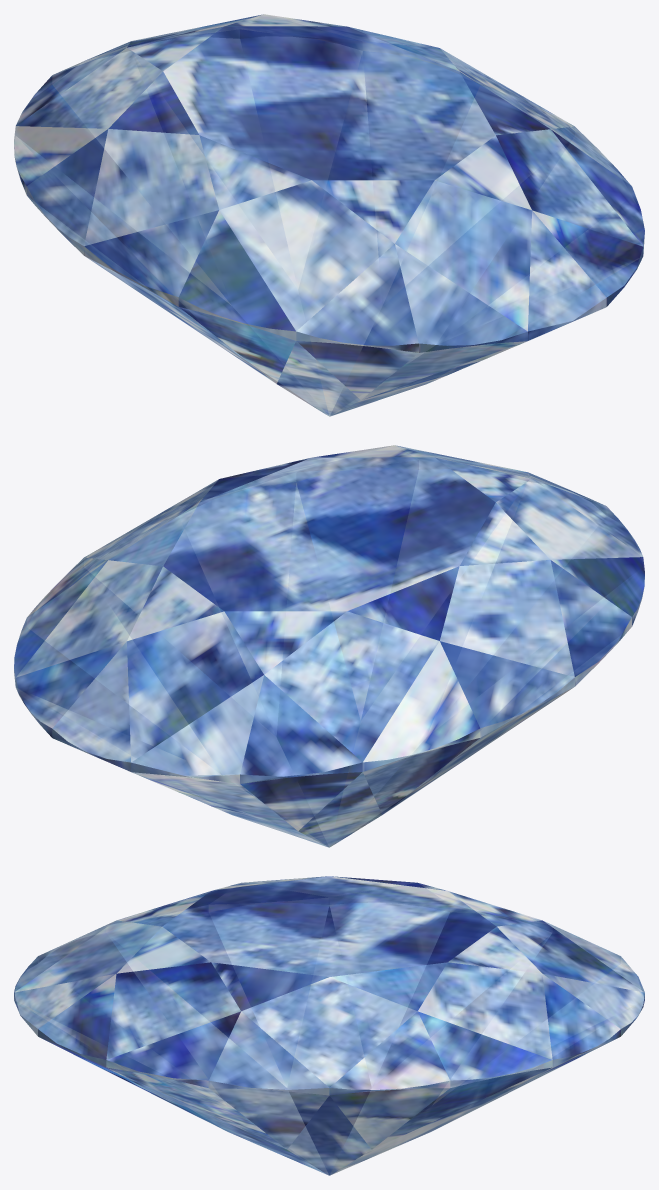
File: sapphire.dae
3 renders of one model, top to bottom at view 1: azimuth 30°, elevation 25°; view 2: azimuth 150°, elevation 25°; view 3: azimuth 270°, elevation 25°, orthographic. The views are drawn at different scales.
Visible parts, largest first — view 1: S_sapphire; view 2: S_sapphire; view 3: S_sapphire.
Part boxes in pixels (x1,y1,x2,y2): S_sapphire: (14,14,644,416); S_sapphire: (14,445,644,847); S_sapphire: (14,876,644,1175).
Bounding box in the file's own units: 0.025 × 0.0153 × 0.035.
1 material, 1 textured.
